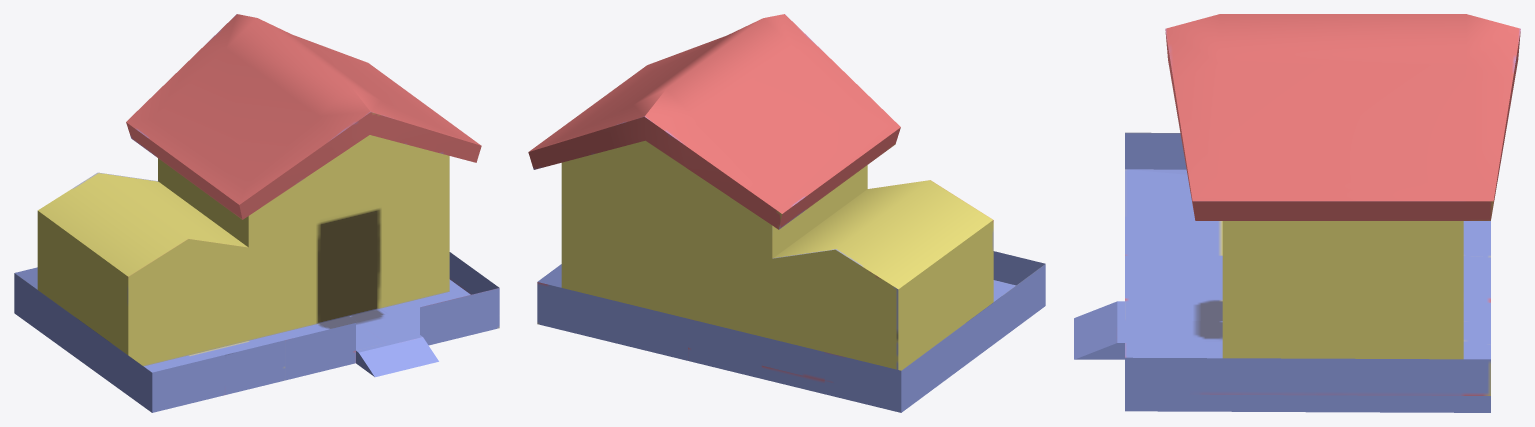
Rendered from largeHouse_pasted__pasted__pCube3.FBX.
The picture shows the model from 3 angles, left to right: view 1: azimuth 30°, elevation 25°; view 2: azimuth 150°, elevation 25°; view 3: azimuth 270°, elevation 25°; orthographic projection. The views are drawn at different scales.
Visible parts, largest first — view 1: largeHouse_pasted__pasted__pCube3; view 2: largeHouse_pasted__pasted__pCube3; view 3: largeHouse_pasted__pasted__pCube3.
Part boxes in pixels (x1,y1,x2,y2): largeHouse_pasted__pasted__pCube3: [14, 14, 499, 412]; largeHouse_pasted__pasted__pCube3: [528, 14, 1045, 412]; largeHouse_pasted__pasted__pCube3: [1074, 14, 1520, 412].
Size of the model in its own units: 13.6 by 11.17 by 8.97.
